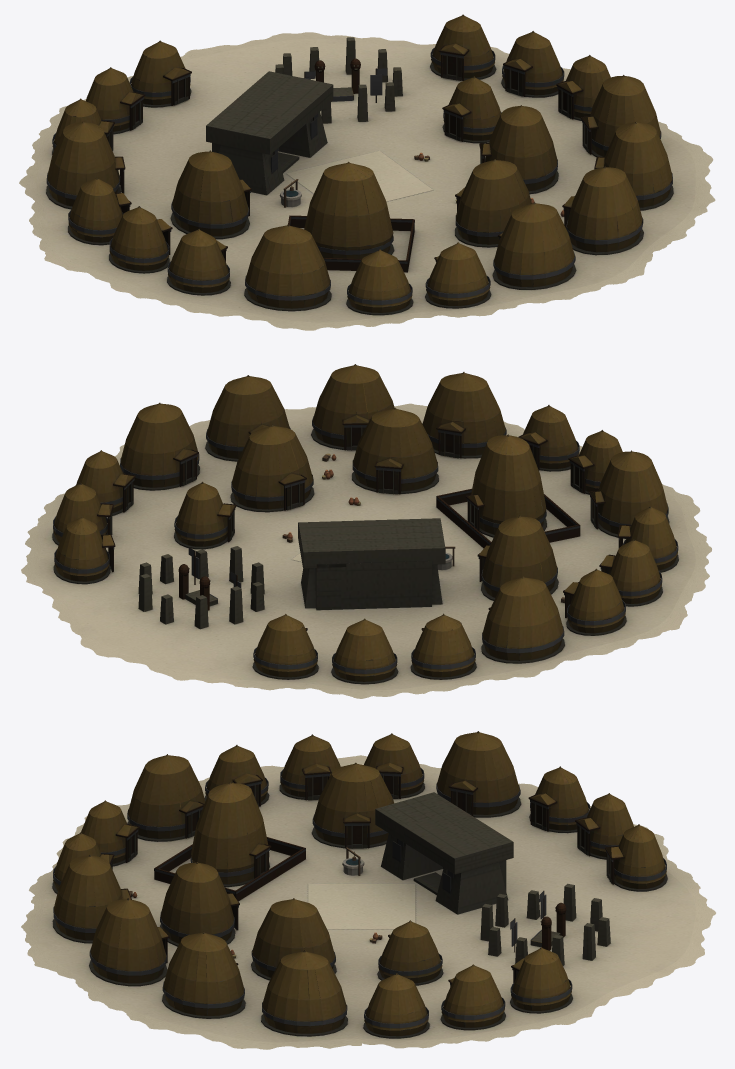
The model's file is bronze-town-big-b-eastafrica.glb.
3 renders of one model, top to bottom at view 1: azimuth 30°, elevation 25°; view 2: azimuth 150°, elevation 25°; view 3: azimuth 270°, elevation 25°, orthographic.
Visible parts, largest first — view 1: LOD0; view 2: LOD0; view 3: LOD0.
Boxes of the visible parts, box(x1,y1,x2,y2) form: LOD0: box(19, 14, 715, 330); LOD0: box(21, 364, 711, 698); LOD0: box(21, 731, 715, 1049).
Size of what is drawn, in the model's own units: 7.99 by 1.11 by 7.94.
3 materials, 3 textured.
